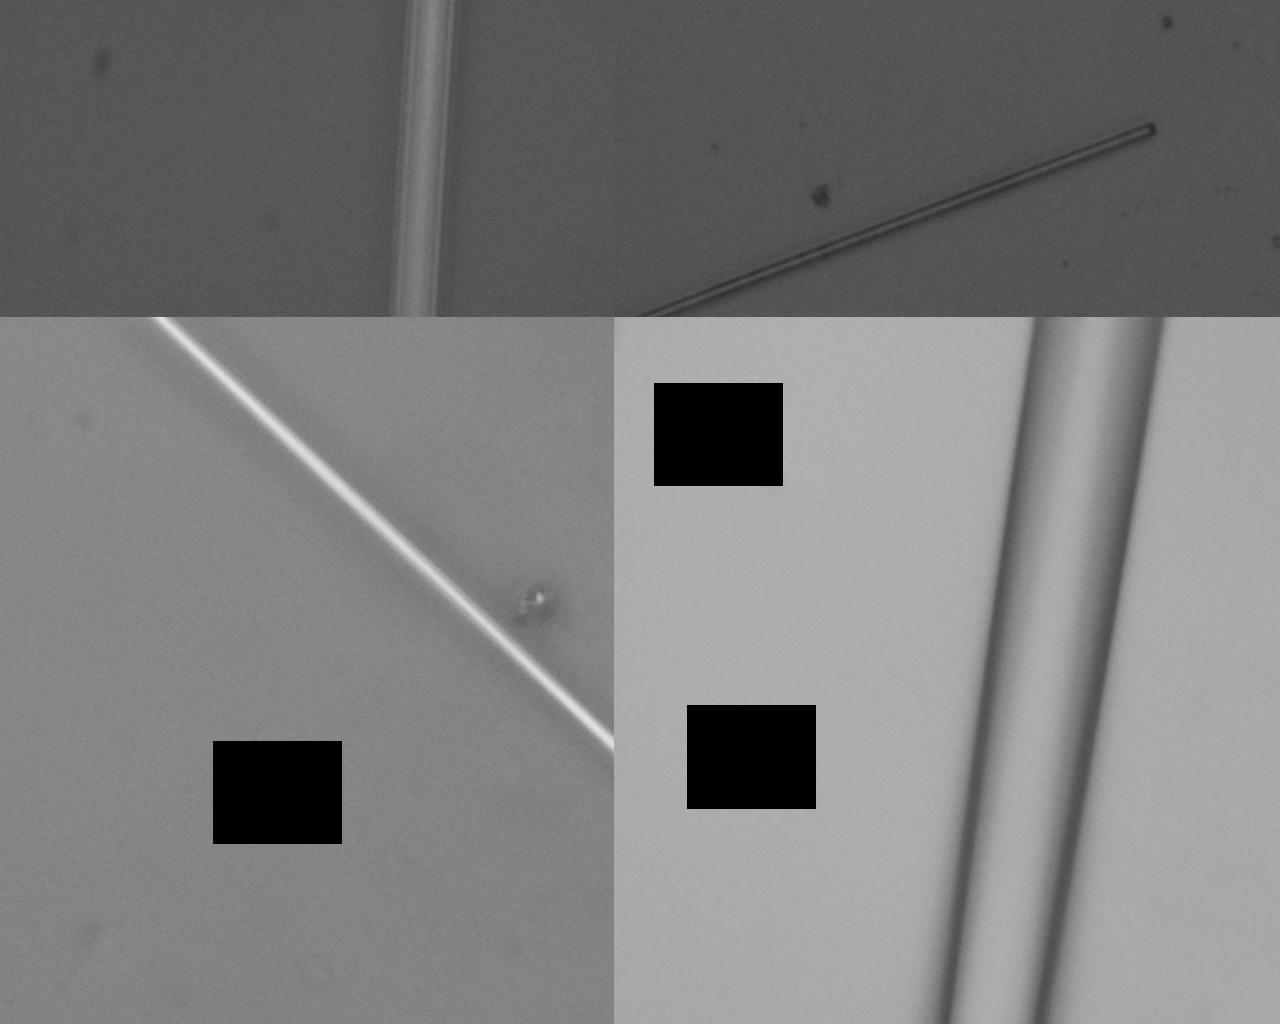fiber: (159, 0, 678, 248), (678, 639, 1280, 666), (321, 501, 349, 1024)
